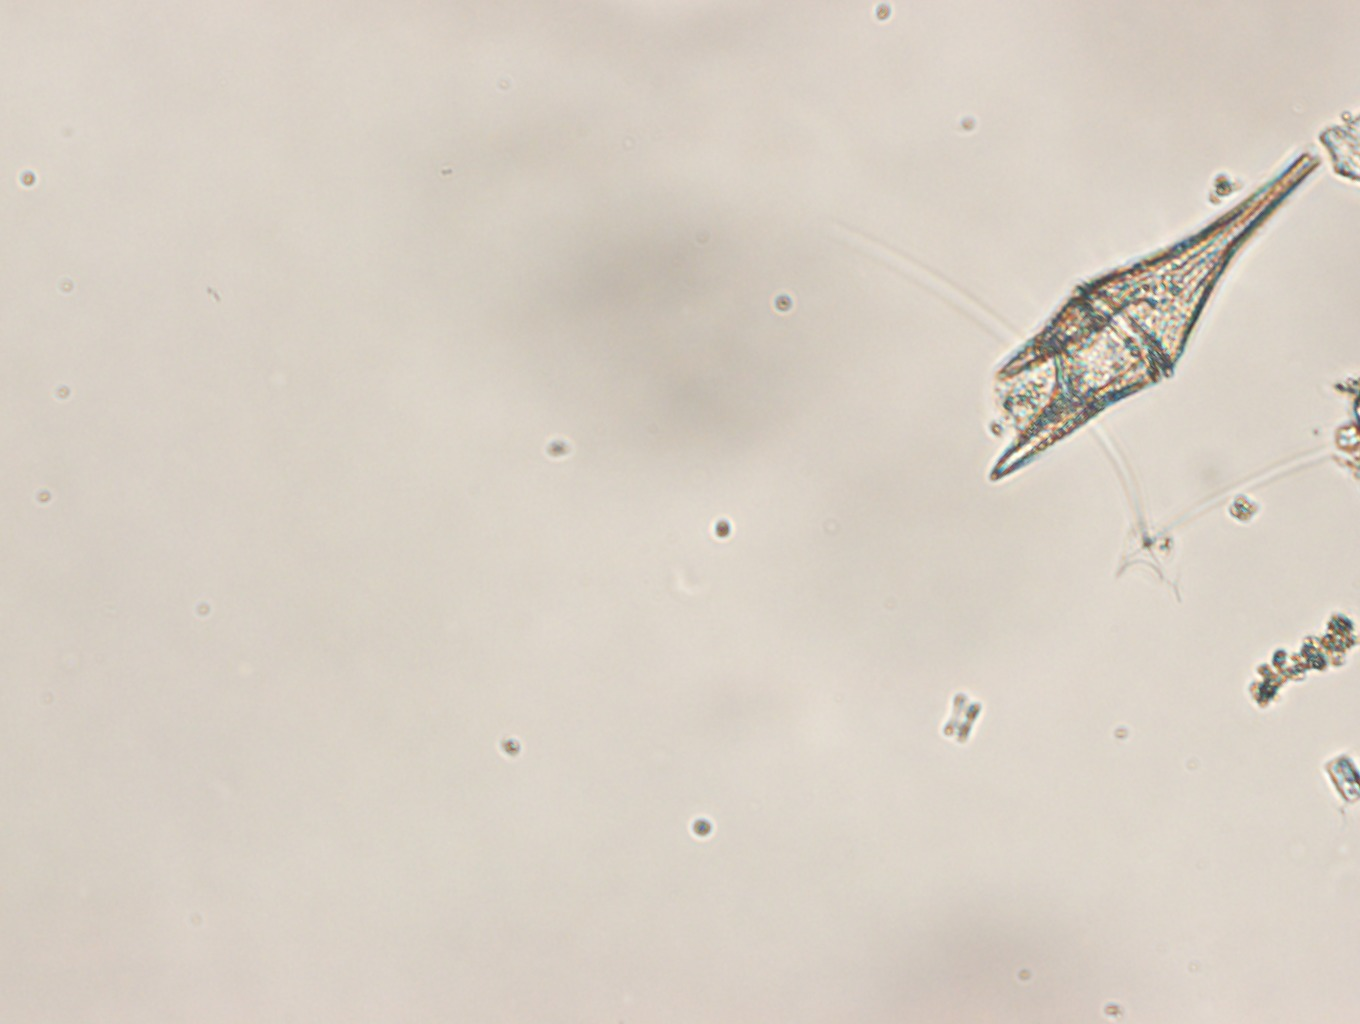ceratium furca: (984, 143, 1325, 486)
